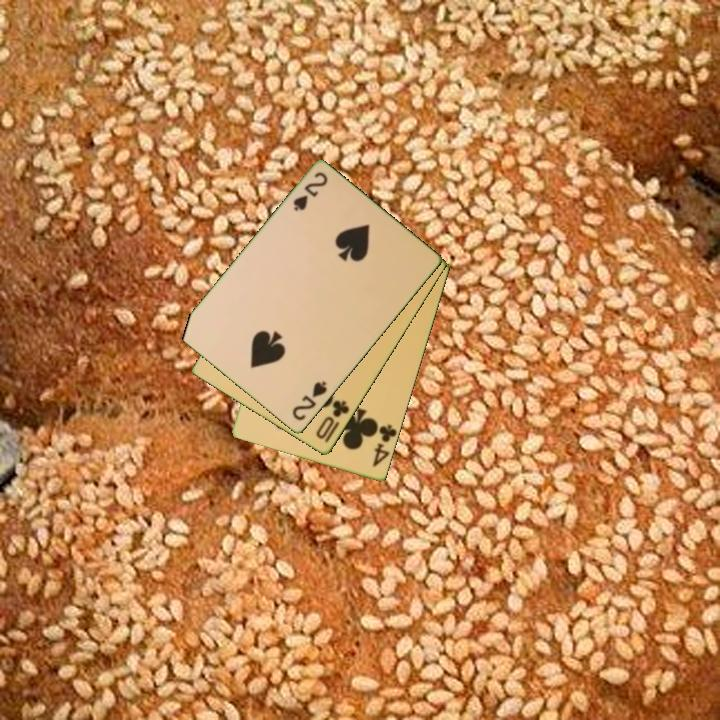10c: (312, 396, 353, 446)
2s: (289, 377, 330, 424), (290, 169, 331, 215)
4c: (369, 421, 399, 470)
